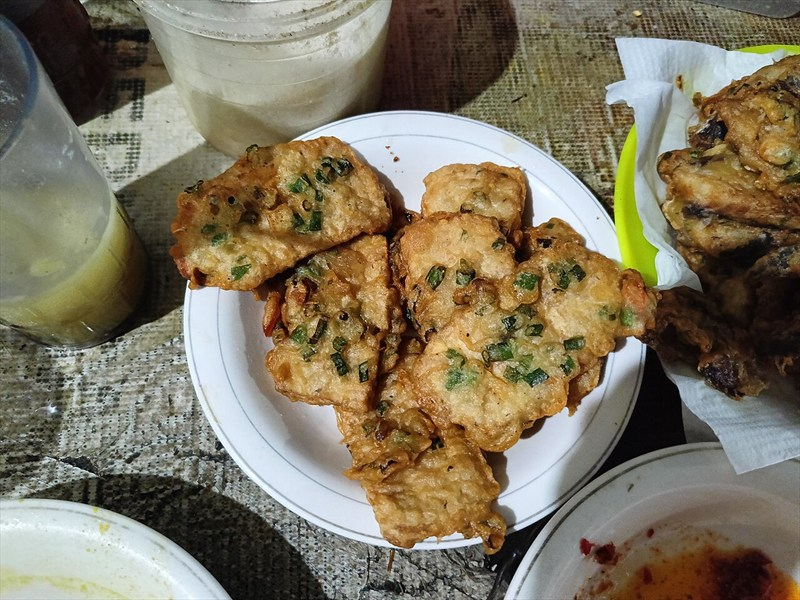Tempe Goreng: (167, 99, 678, 546)
